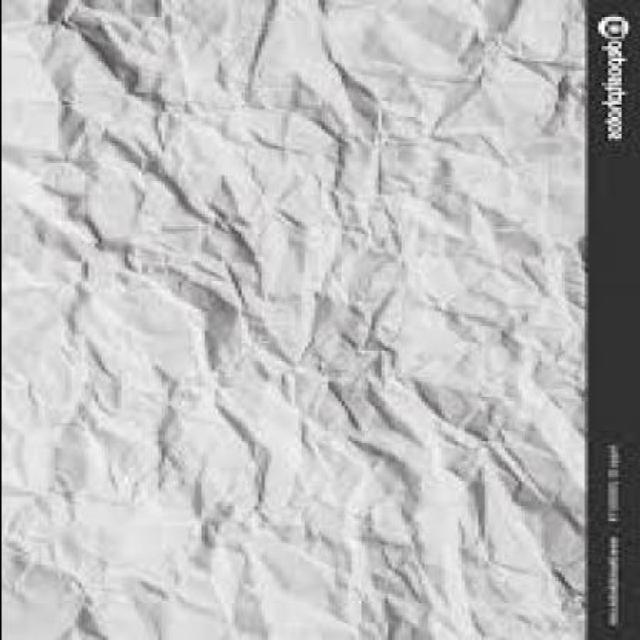paper: (1, 0, 583, 638)
